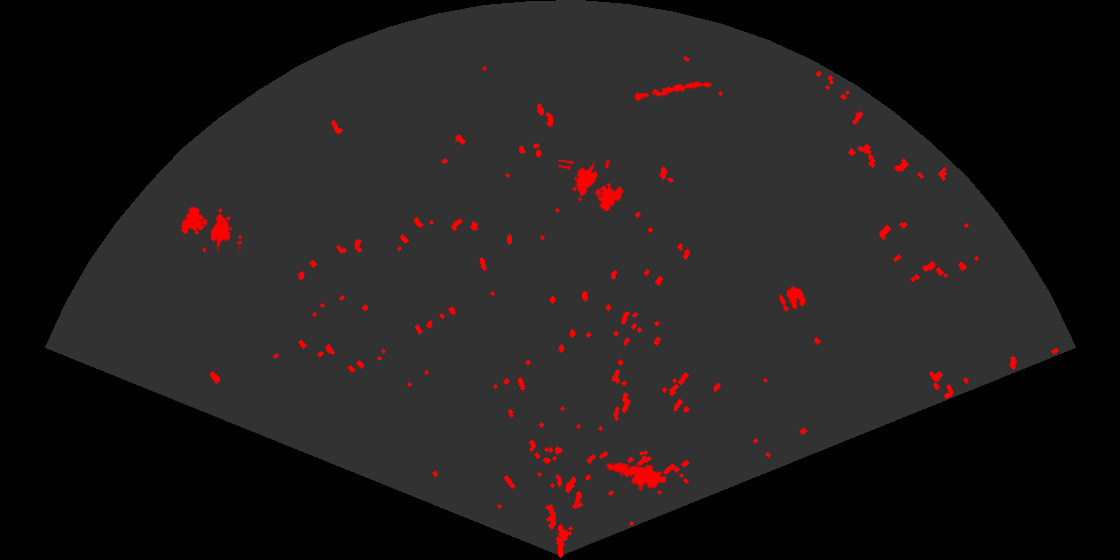ball: (778, 285, 808, 313)
cage: (558, 160, 626, 213), (179, 205, 242, 252)
chain: (630, 80, 714, 103)
frogman: (605, 461, 666, 492)
